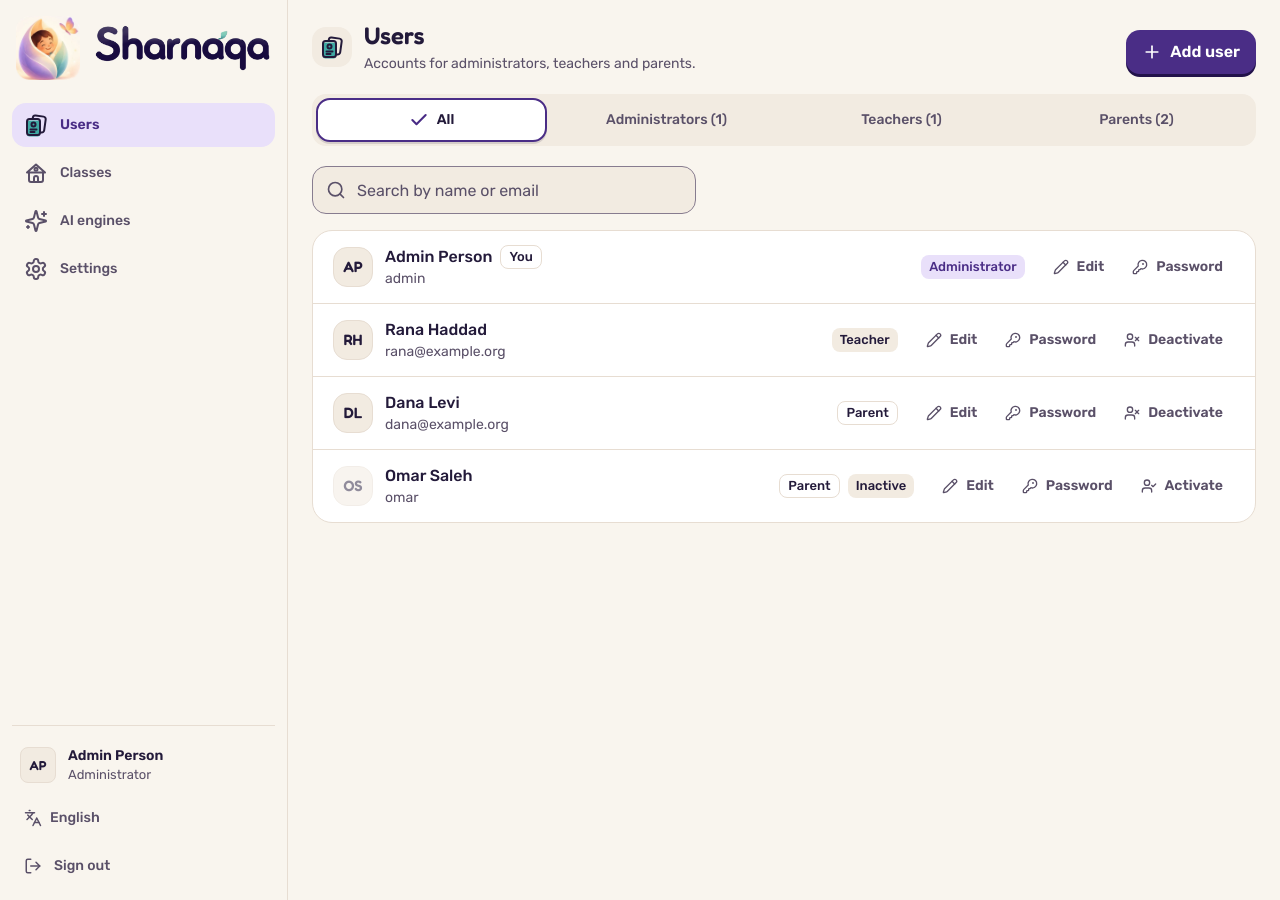
it: UsersPage › shows a duplicate identifier inline
The width and height of the screenshot is (1280, 900).
Expected: the text "Rana Haddad" is shown, 385,318 -> 487,342
Click the button "Add user".
click(1191, 52)  # box 1126,30 -> 1256,74
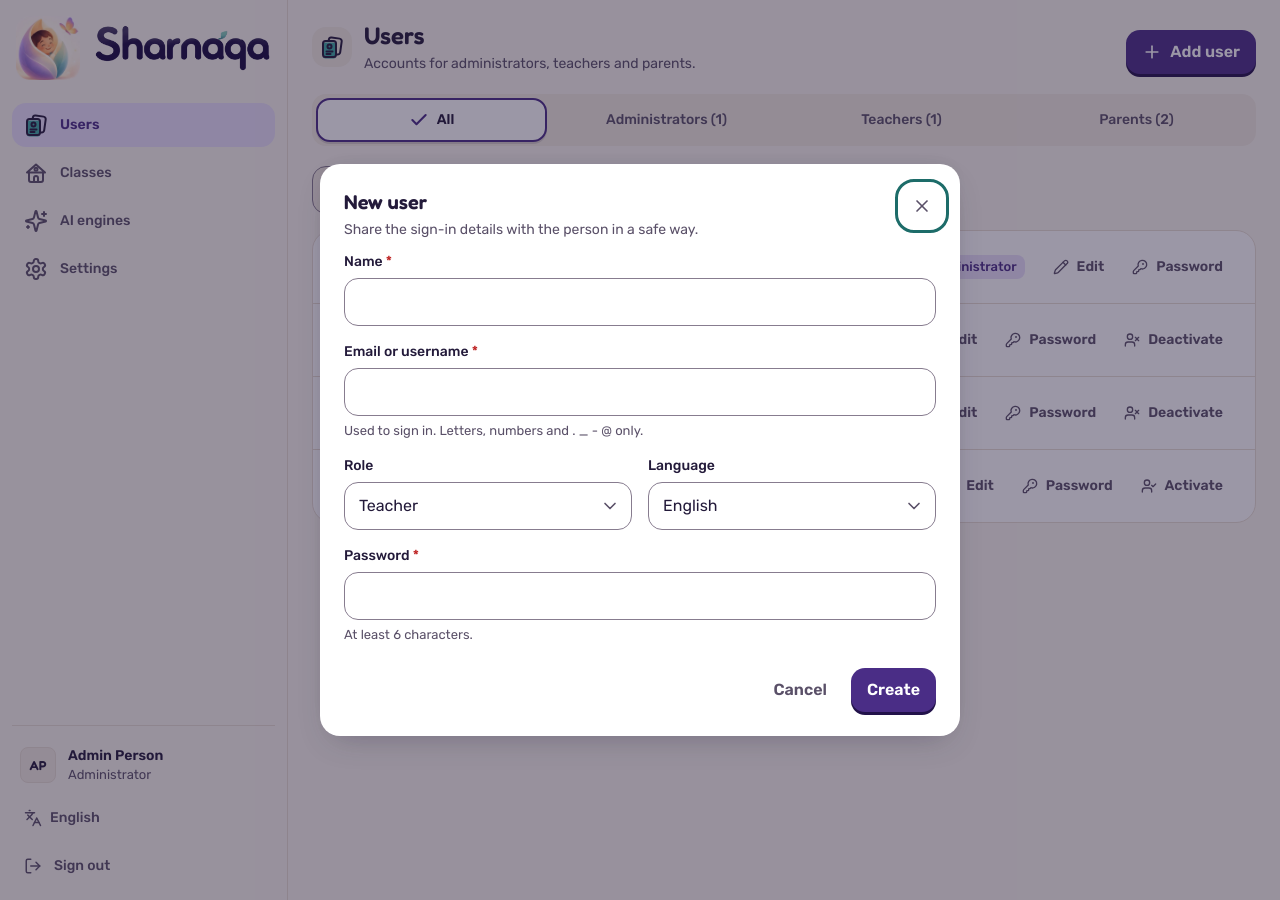
Type "Rana" into the field labelled "Name *".
click(640, 302); type("Rana")  # box 344,278 -> 936,326
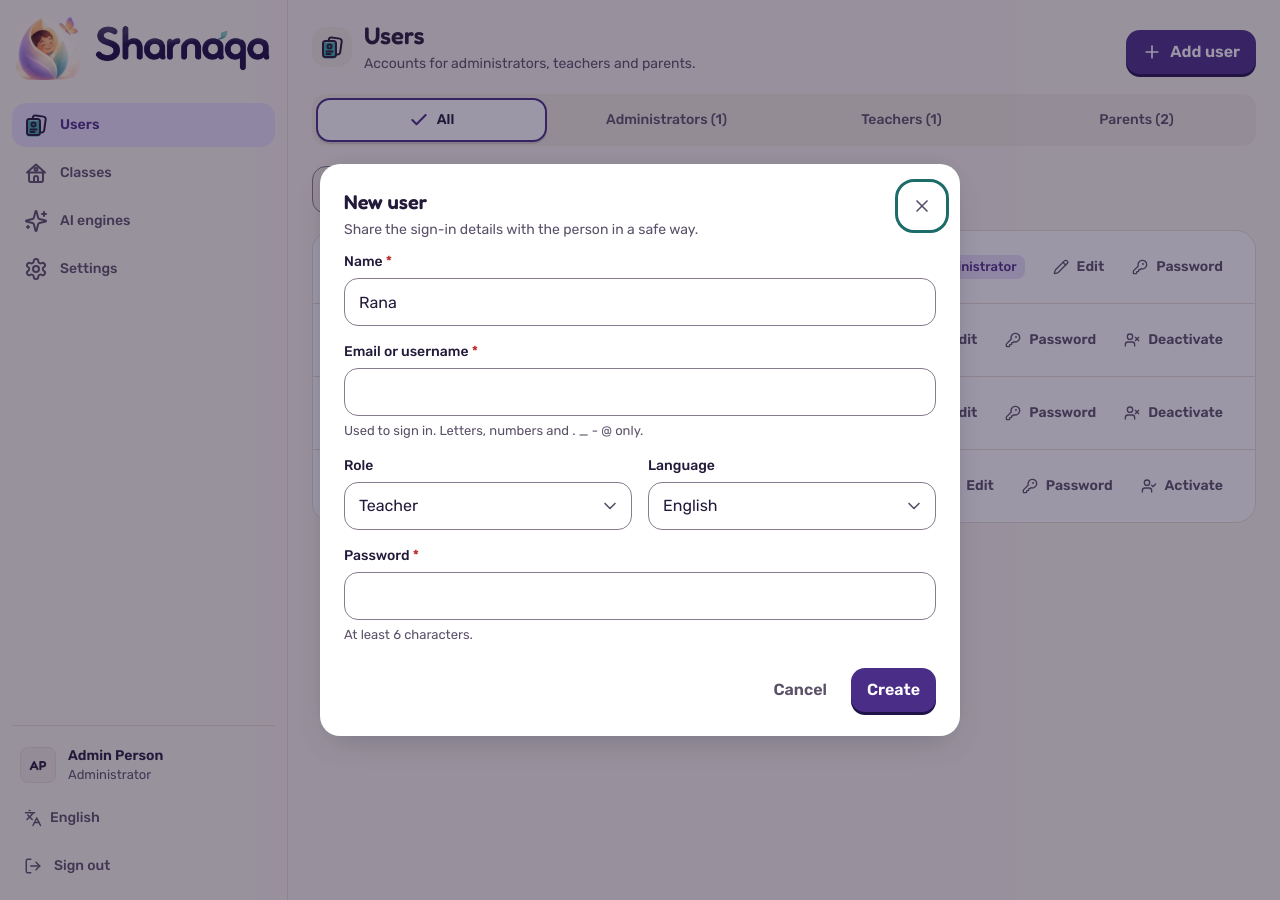
Type "rana@example.org" into the field labelled "Email or username *".
click(640, 392); type("rana@example.org")  # box 344,368 -> 936,416
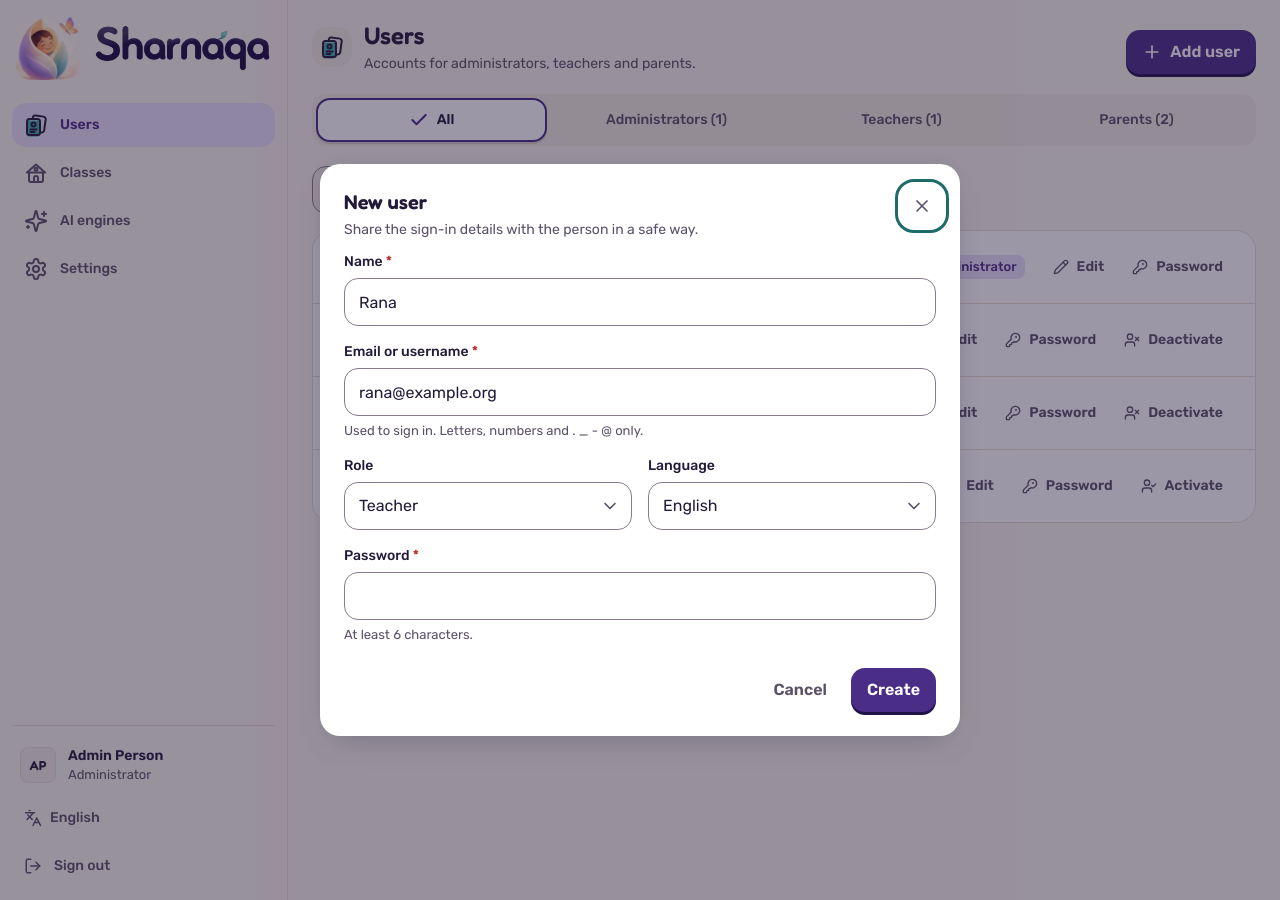
Type "long-enough-1" into the password field labelled "Password *".
click(640, 596); type("long-enough-1")  # box 344,572 -> 936,620
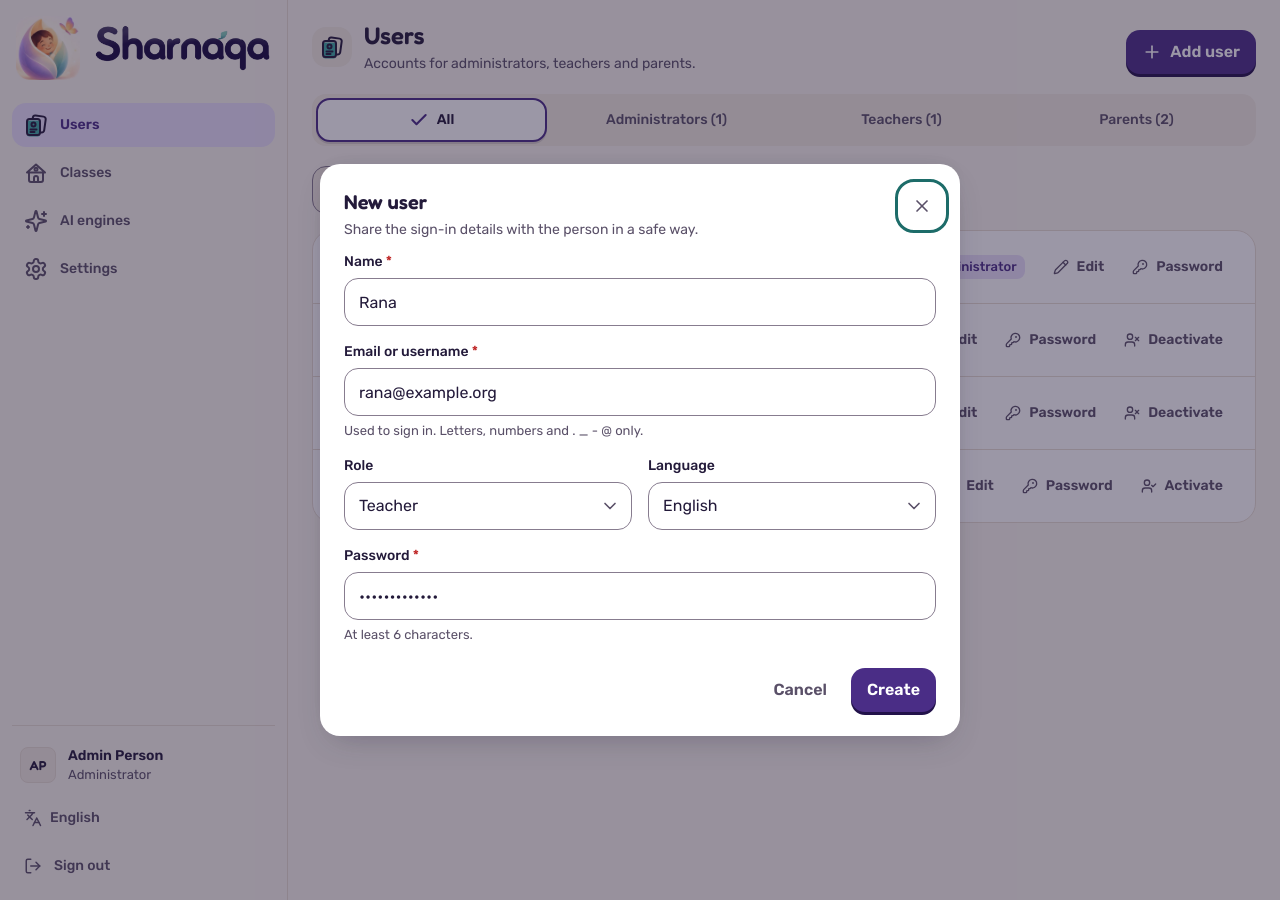
Click the button "Create".
click(893, 690)  # box 851,668 -> 936,712
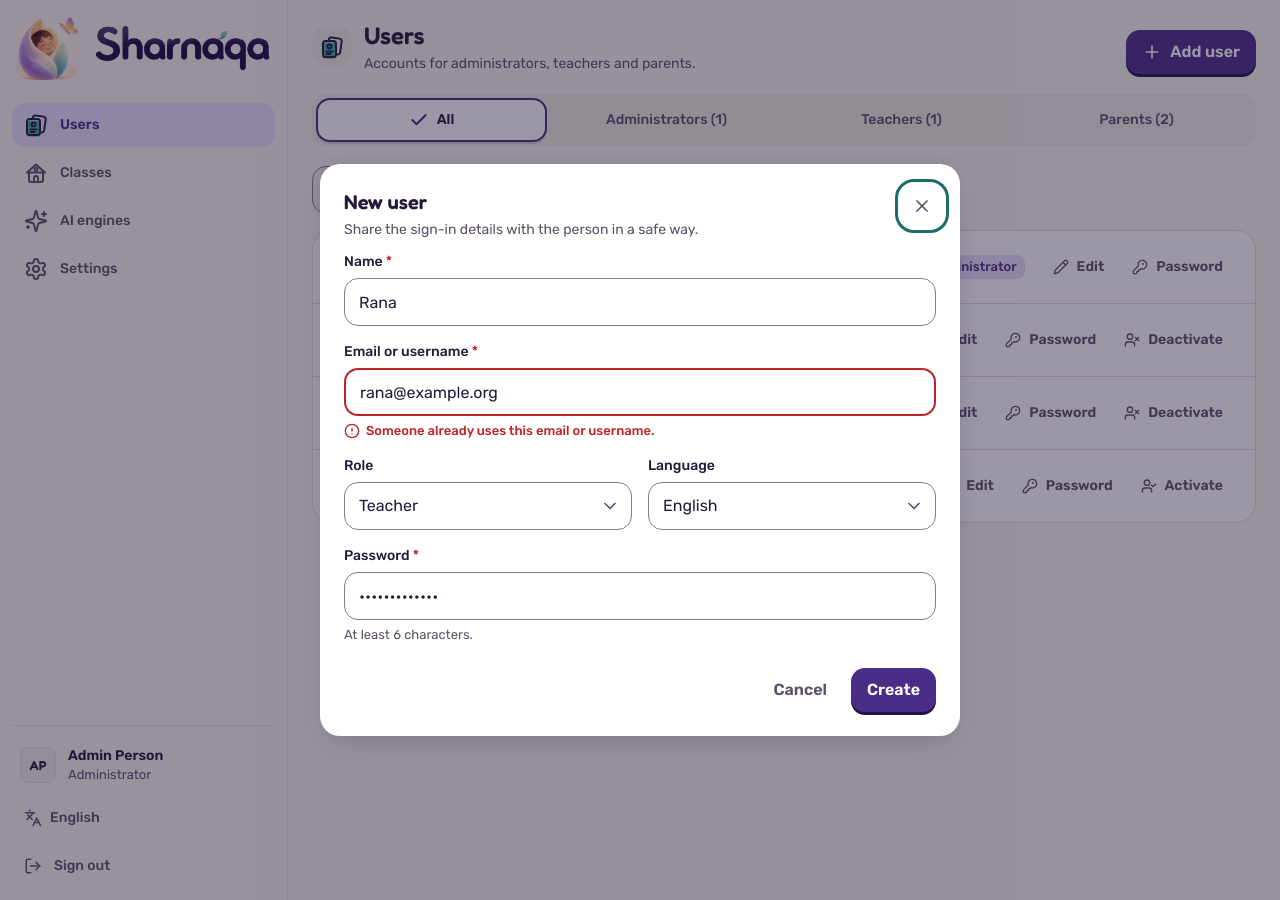
Expected: the text "Someone already uses this email or username." is shown, 344,423 -> 654,439
